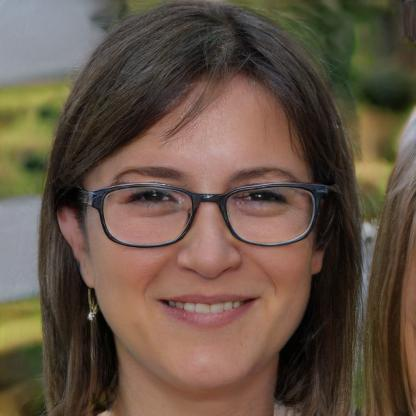glasses: (92, 176, 322, 250)
